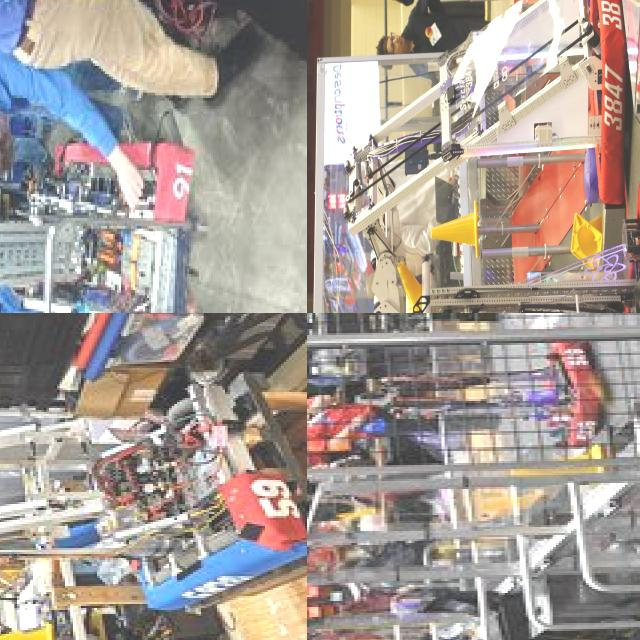FRC-Robots: (318, 0, 634, 313), (0, 354, 307, 614), (0, 119, 241, 313), (403, 129, 640, 313), (382, 328, 619, 444)
